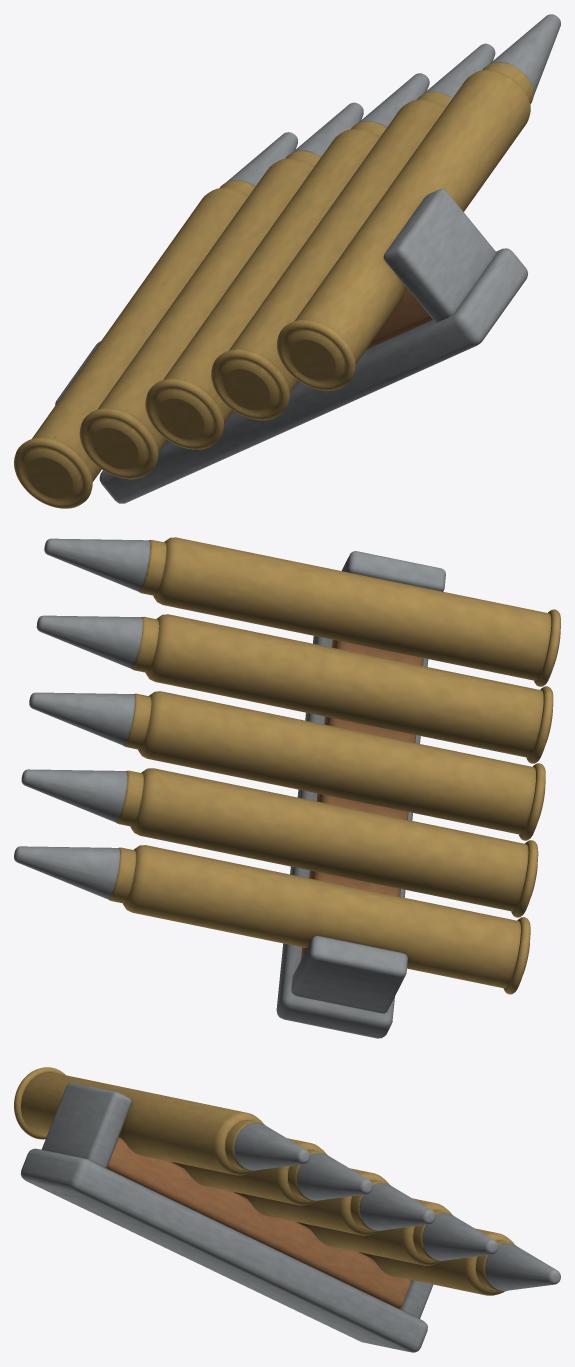
3 views of the same model, one above another, from view 1: azimuth 30°, elevation 25°; view 2: azimuth 150°, elevation 25°; view 3: azimuth 270°, elevation 25° (orthographic). The views are drawn at different scales.
Parts seen in each view (by area): view 1: Copper strip clip; view 2: Copper strip clip; view 3: Copper strip clip.
Boxes of the visible parts, <box> form: Copper strip clip: <box>14,14,560,508</box>; Copper strip clip: <box>14,537,560,1038</box>; Copper strip clip: <box>14,1067,560,1352</box>.
Bounding box in the file's own units: 1.13 × 0.8507 × 1.19.
Materials: 1 (1 with a texture image).
